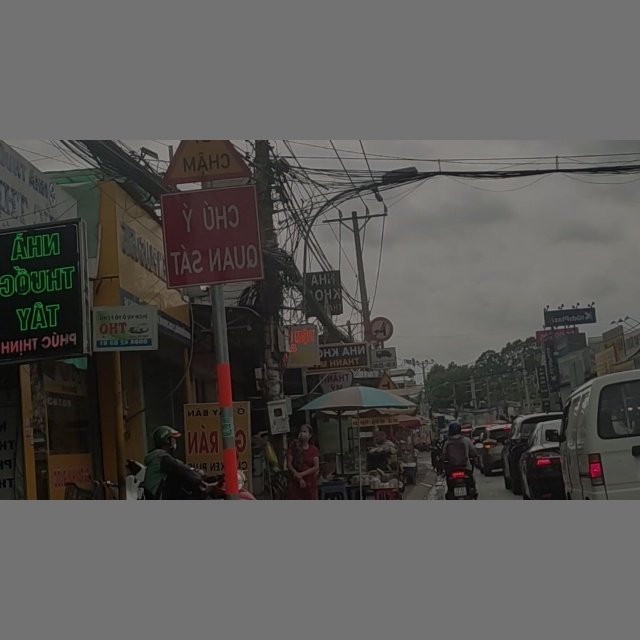P.139: (367, 315, 395, 343)
S.505a*Xe tai: (370, 348, 397, 369)
W.205b: (372, 371, 399, 392)
W.245a: (156, 141, 255, 182)
